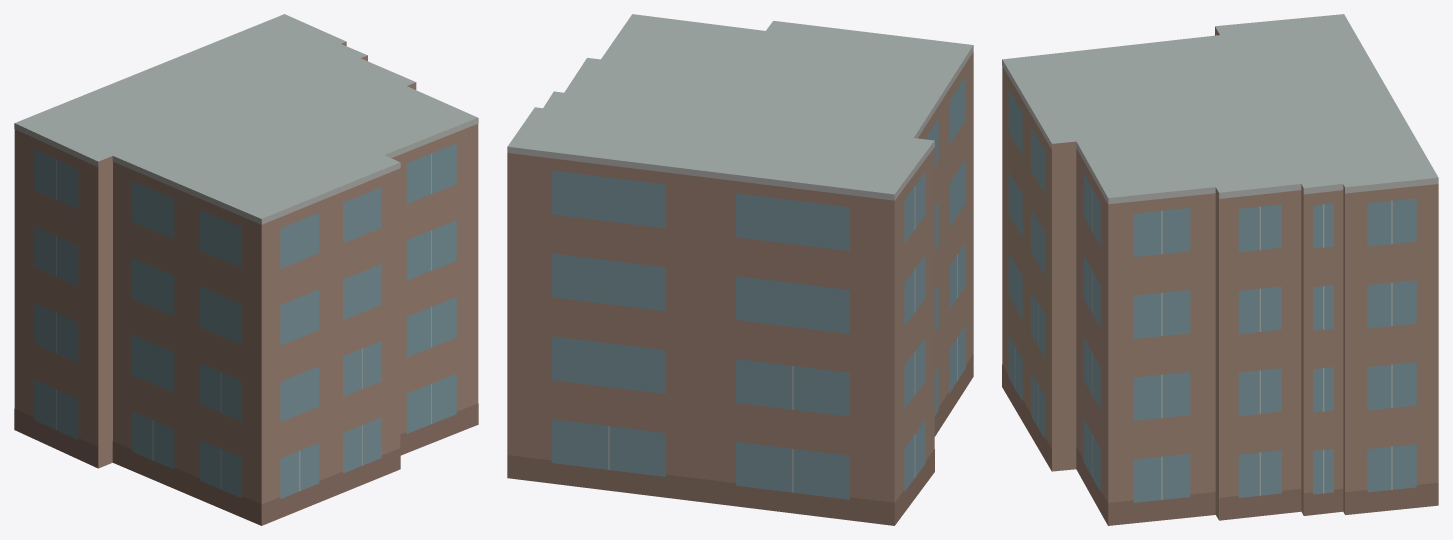
Rendered from survey-upis-33032167.glb.
3 renders of one model, left to right at view 1: azimuth 30°, elevation 25°; view 2: azimuth 150°, elevation 25°; view 3: azimuth 270°, elevation 25°, orthographic. The views are drawn at different scales.
Parts seen in each view (by area): view 1: survey-upis-33032167.tmp; view 2: survey-upis-33032167.tmp; view 3: survey-upis-33032167.tmp.
Part boxes in pixels (box(x1,y1,x2,y2)): survey-upis-33032167.tmp: box(14, 14, 478, 525); survey-upis-33032167.tmp: box(507, 14, 973, 525); survey-upis-33032167.tmp: box(1002, 14, 1438, 525).
Bounding box in the file's own units: 15.68 × 13 × 15.7.
